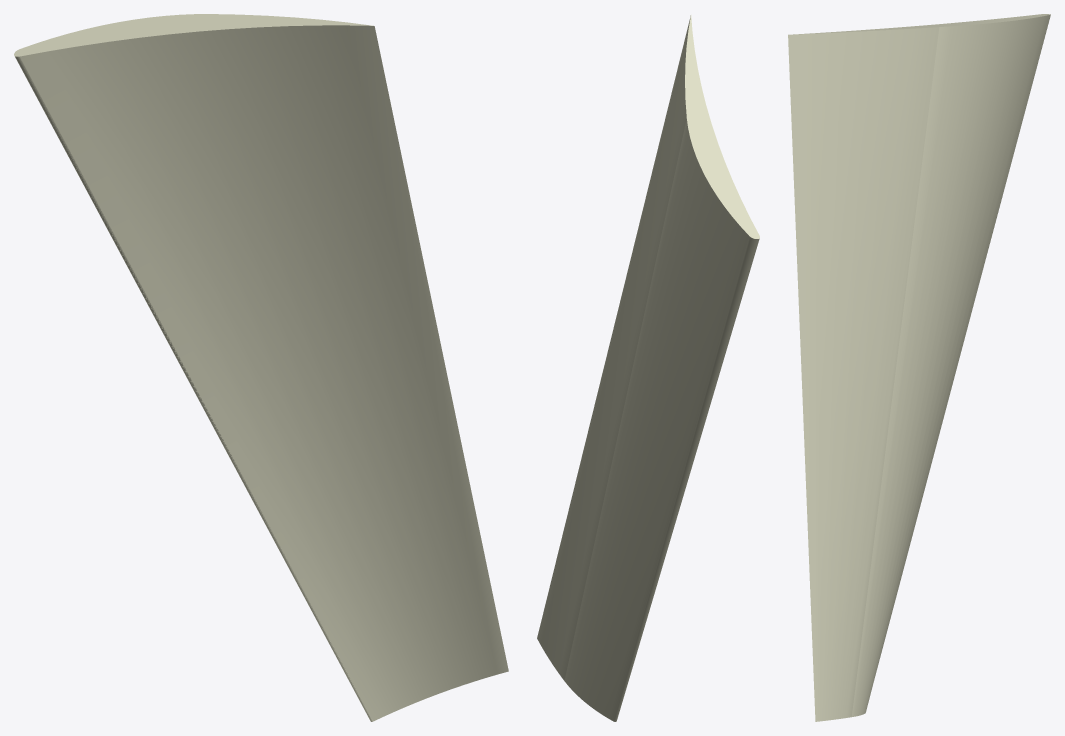
The model's file is original-16.obj.
The picture shows the model from 3 angles, left to right: view 1: azimuth 30°, elevation 25°; view 2: azimuth 150°, elevation 25°; view 3: azimuth 270°, elevation 25°; orthographic projection. The views are drawn at different scales.
Parts seen in each view (by area): view 1: Fan_Blade16/Fan_Blade/mesh1/mesh1-geometry#mesh1-geometry; view 2: Fan_Blade16/Fan_Blade/mesh1/mesh1-geometry#mesh1-geometry; view 3: Fan_Blade16/Fan_Blade/mesh1/mesh1-geometry#mesh1-geometry.
Part boxes in pixels (x1,y1,x2,y2): Fan_Blade16/Fan_Blade/mesh1/mesh1-geometry#mesh1-geometry: (14,14,508,721); Fan_Blade16/Fan_Blade/mesh1/mesh1-geometry#mesh1-geometry: (537,15,759,721); Fan_Blade16/Fan_Blade/mesh1/mesh1-geometry#mesh1-geometry: (788,14,1050,721).
Bounding box in the file's own units: 0.157 × 0.3015 × 0.1089.
